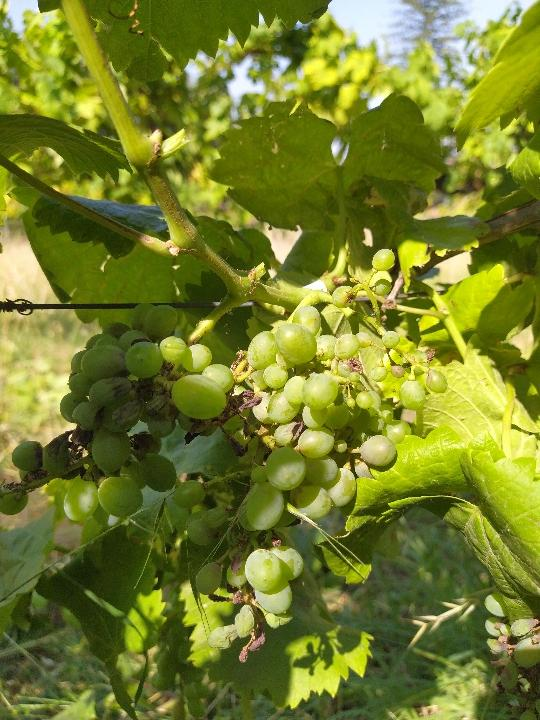grape: (185, 244, 451, 667), (0, 300, 238, 532)
